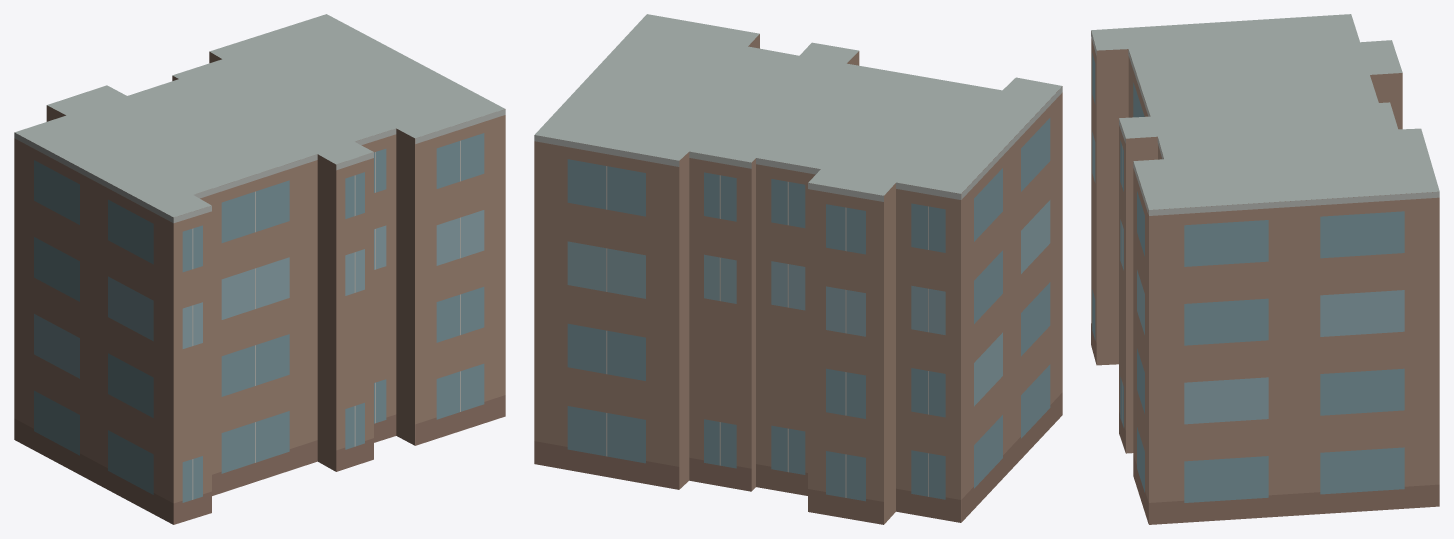
The model's file is survey-upis-33033207.glb.
3 renders of one model, left to right at view 1: azimuth 30°, elevation 25°; view 2: azimuth 150°, elevation 25°; view 3: azimuth 270°, elevation 25°, orthographic. The views are drawn at different scales.
Parts seen in each view (by area): view 1: survey-upis-33033207.tmp; view 2: survey-upis-33033207.tmp; view 3: survey-upis-33033207.tmp.
Part boxes in pixels (x1=…): survey-upis-33033207.tmp: x1=14, y1=14, x2=505, y2=524; survey-upis-33033207.tmp: x1=534, y1=14, x2=1062, y2=524; survey-upis-33033207.tmp: x1=1091, y1=14, x2=1439, y2=524.
Bounding box in the file's own units: 17.1 × 12.8 × 12.86.
